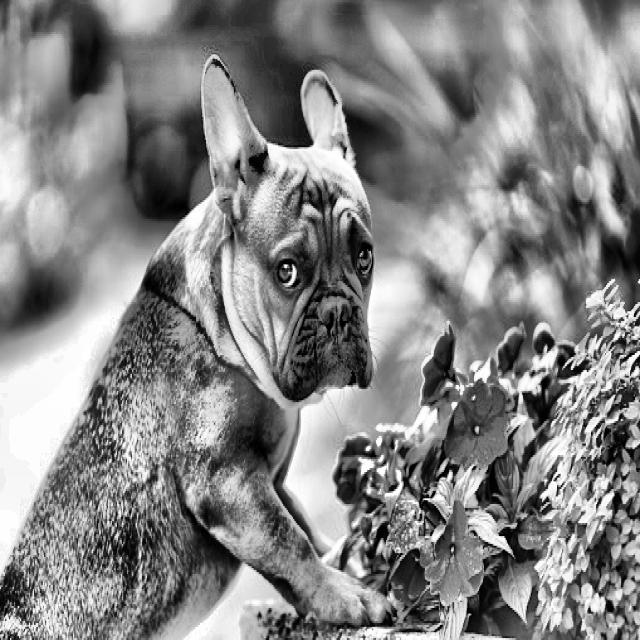bulldog: (178, 30, 392, 423)
